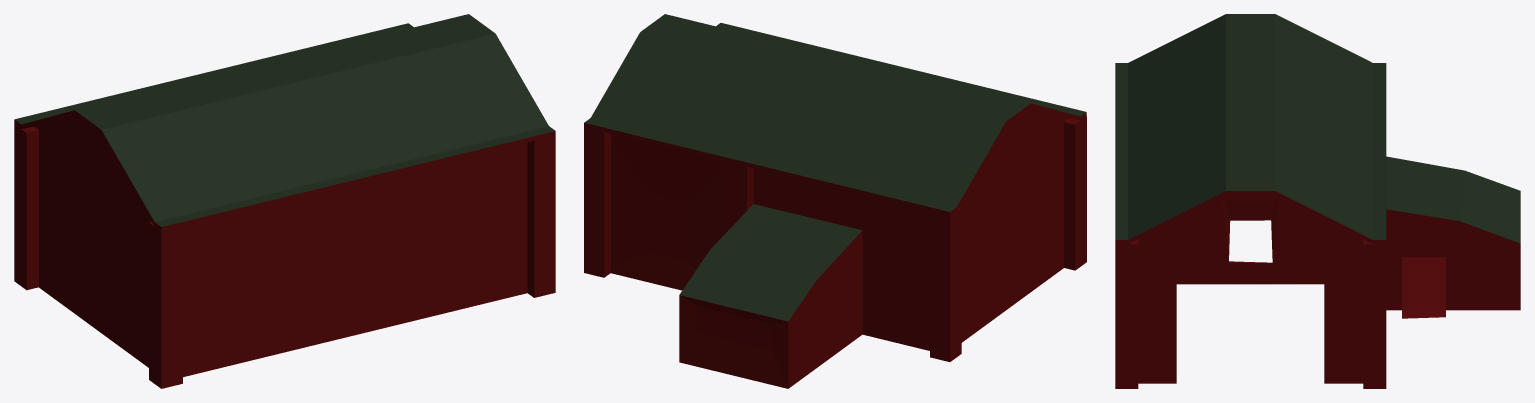
File: farm.obj
3 views of the same model, side by side, from view 1: azimuth 30°, elevation 25°; view 2: azimuth 150°, elevation 25°; view 3: azimuth 270°, elevation 25° (orthographic). The views are drawn at different scales.
Parts seen in each view (by area): view 1: Cube_Cube.001; view 2: Cube_Cube.001; view 3: Cube_Cube.001.
Boxes of the visible parts, x1,y1,x2,y2 form: Cube_Cube.001: (14,14,555,388); Cube_Cube.001: (584,14,1086,388); Cube_Cube.001: (1115,14,1520,388).
Size of the model in its own units: 17.07 by 8.9 by 16.51.
